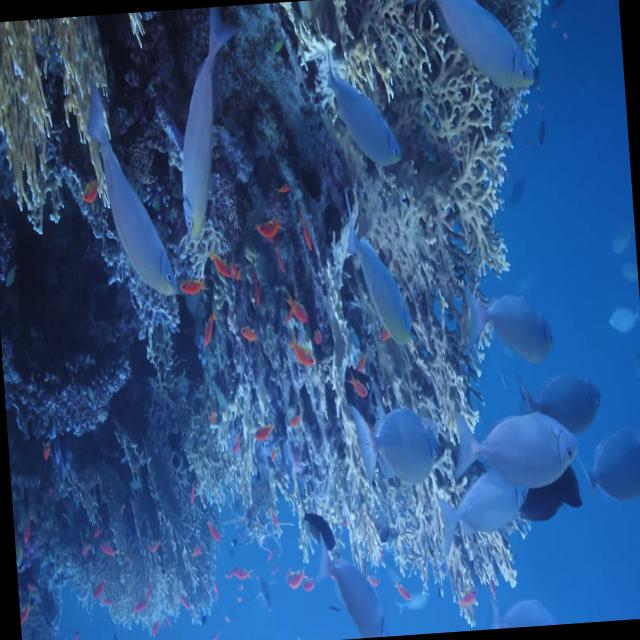fish: (84, 89, 178, 297), (170, 10, 242, 235), (411, 0, 537, 96), (454, 411, 580, 493), (341, 208, 413, 350), (322, 51, 403, 170), (464, 270, 556, 368), (438, 472, 533, 557), (346, 408, 444, 486), (315, 537, 388, 640), (520, 372, 606, 440), (584, 427, 640, 509)
